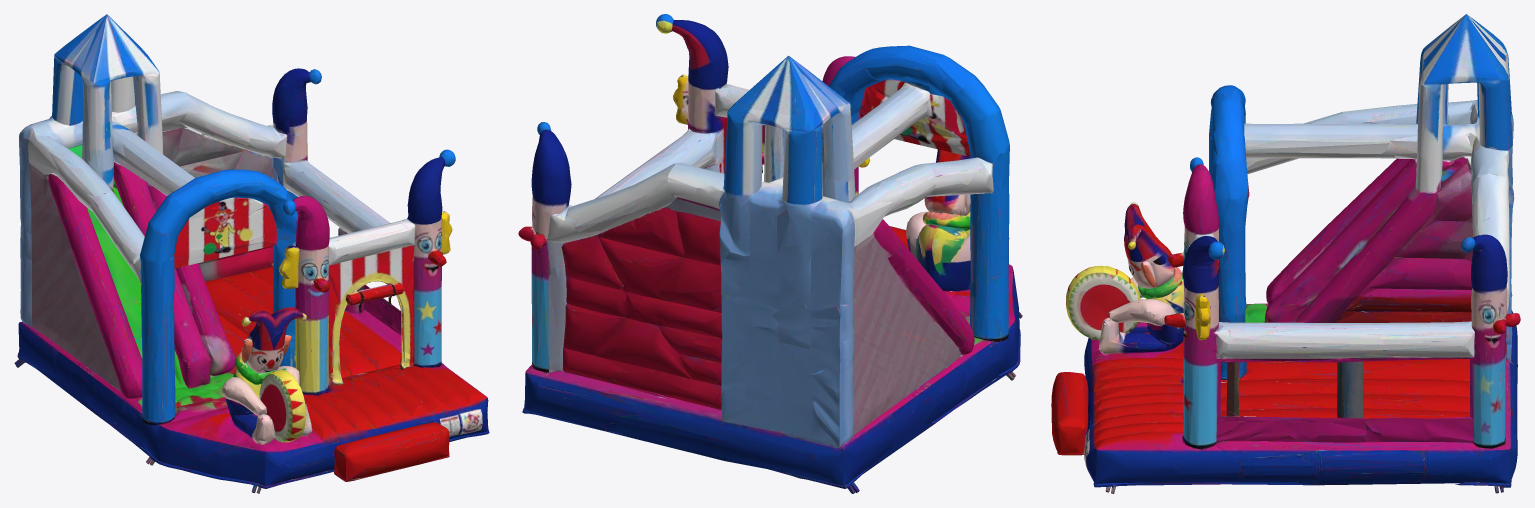
3 views of the same model, side by side, from view 1: azimuth 30°, elevation 25°; view 2: azimuth 150°, elevation 25°; view 3: azimuth 270°, elevation 25° (orthographic). The views are drawn at different scales.
Size of the model in its own units: 1.53 by 1.65 by 1.9.
1 material, 1 textured.
